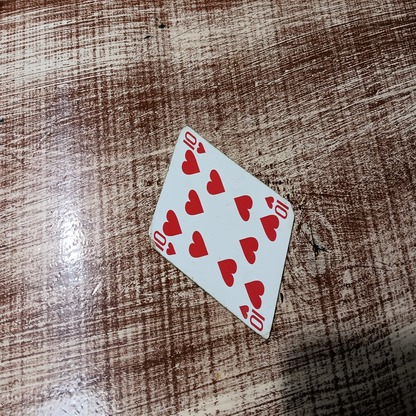10h: (238, 299, 264, 331), (263, 191, 290, 219), (180, 127, 206, 155), (152, 228, 176, 256)
